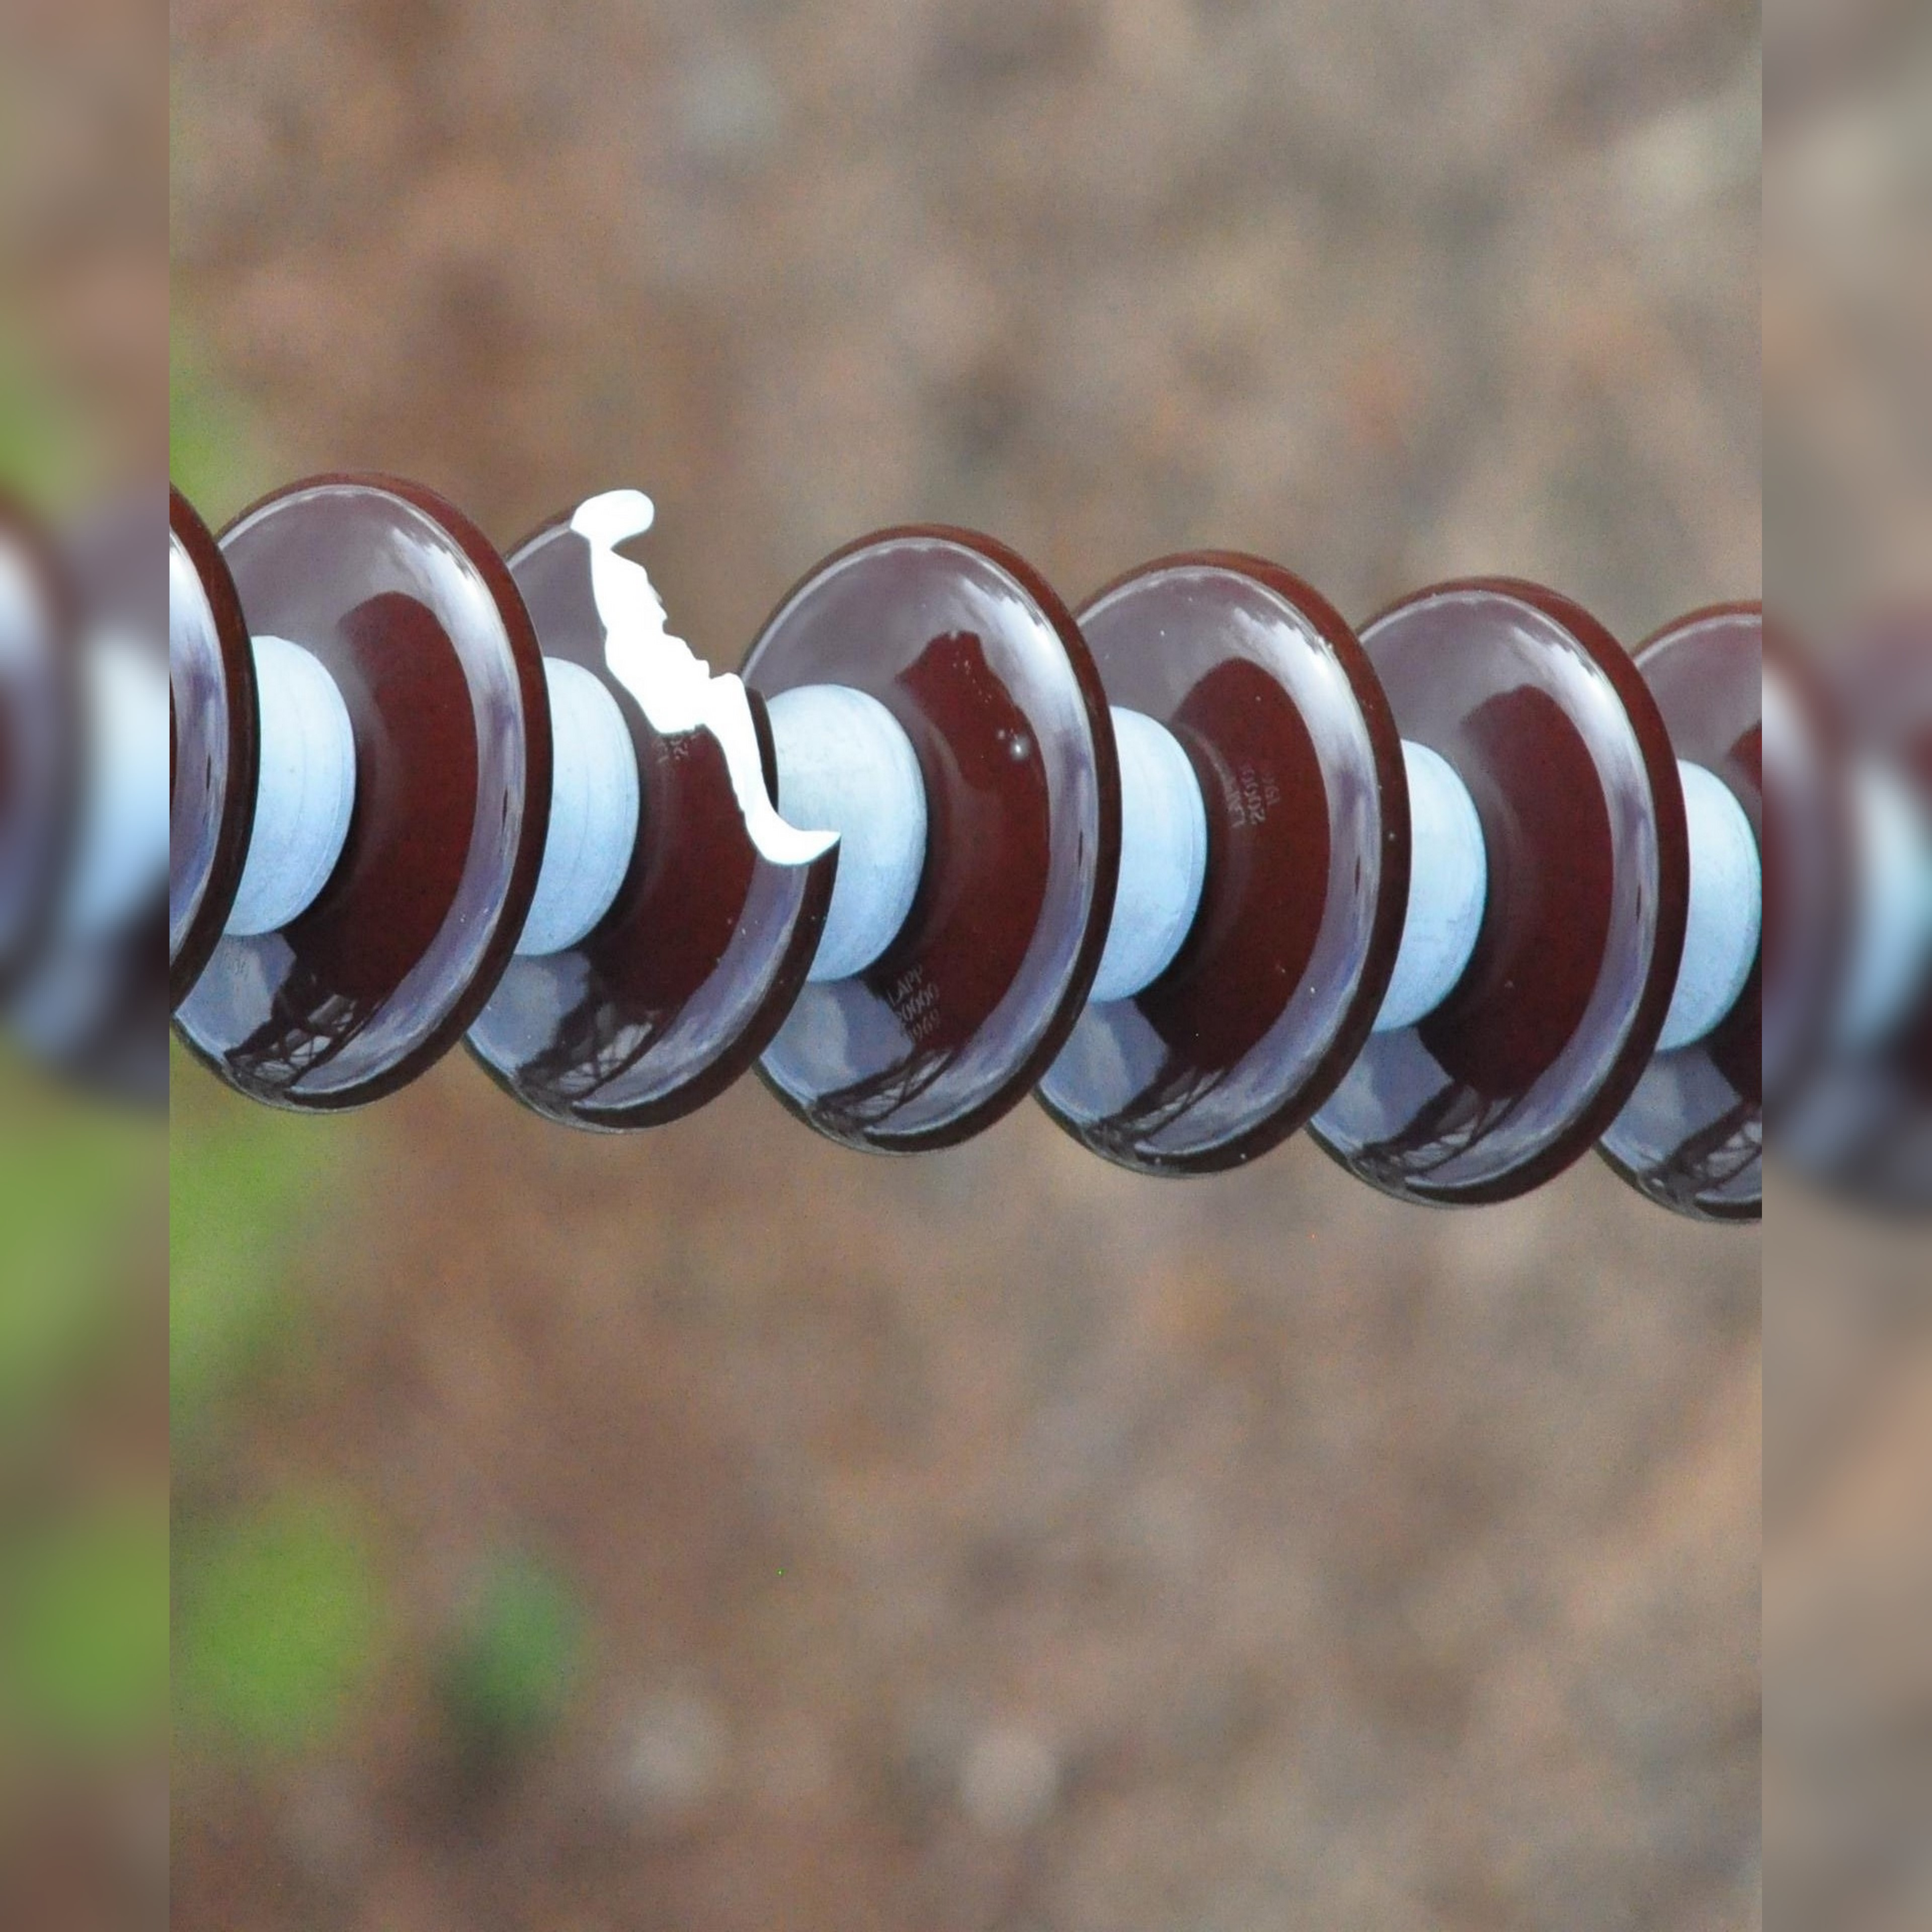insulator breakage: (425, 469, 853, 1145)
